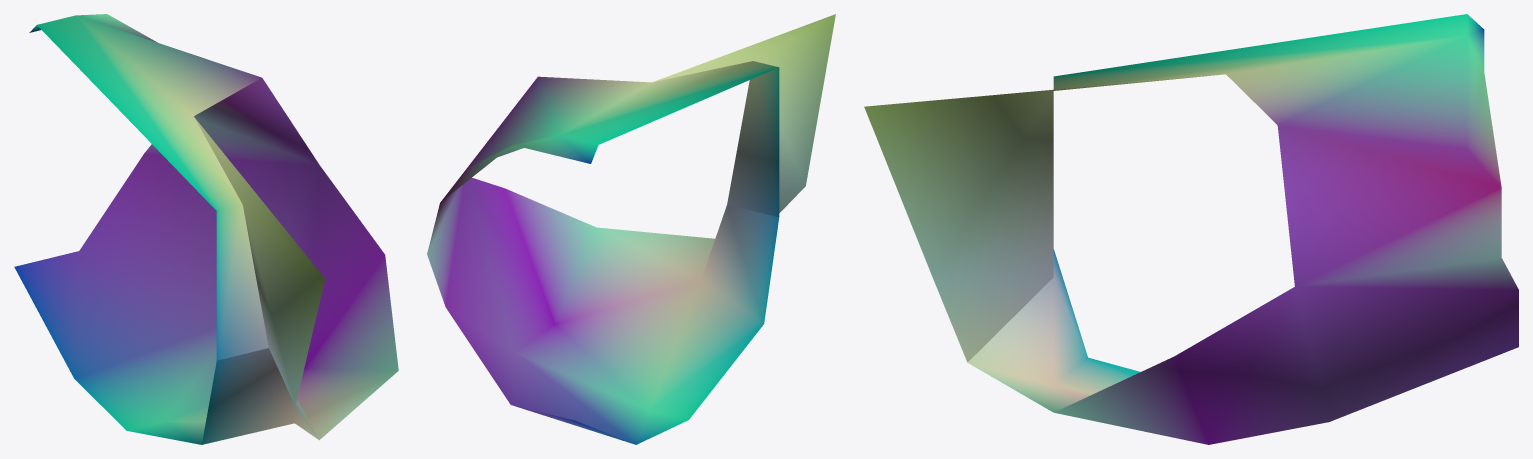
3 views of the same model, side by side, from view 1: azimuth 30°, elevation 25°; view 2: azimuth 150°, elevation 25°; view 3: azimuth 270°, elevation 25° (orthographic). The views are drawn at different scales.
Parts seen in each view (by area): view 1: part; view 2: part; view 3: part.
Part boxes in pixels (bbox=[...]): part: bbox=[14, 14, 398, 444]; part: bbox=[427, 14, 835, 444]; part: bbox=[864, 14, 1518, 444].
Size of the model in its own units: 17 by 25 by 38.
